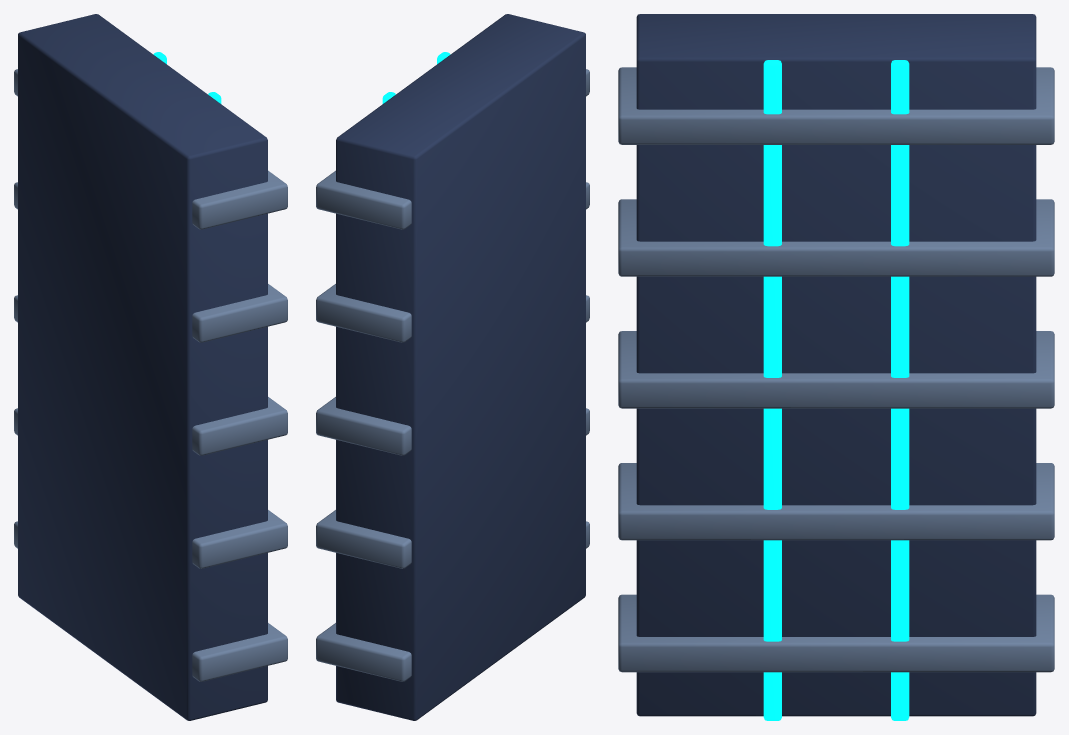
Rendered from SM_TowerWall_Segment.fbx.
3 renders of one model, left to right at view 1: azimuth 30°, elevation 25°; view 2: azimuth 150°, elevation 25°; view 3: azimuth 270°, elevation 25°, orthographic. The views are drawn at different scales.
Parts seen in each view (by area): view 1: SM_TowerWall_Segment; view 2: SM_TowerWall_Segment; view 3: SM_TowerWall_Segment.
Part boxes in pixels (x1,y1,x2,y2): SM_TowerWall_Segment: (14,14,287,720); SM_TowerWall_Segment: (316,14,589,720); SM_TowerWall_Segment: (618,14,1054,720).
Size of the model in its own units: 69 by 240 by 400.
